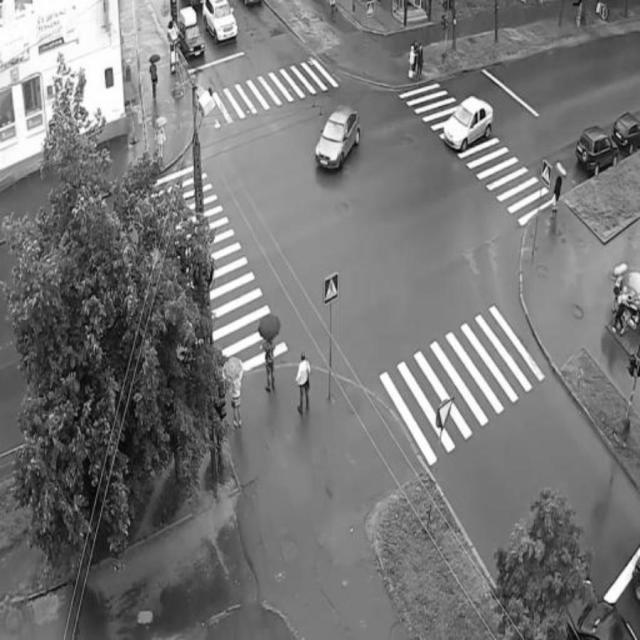person: (260, 315, 280, 401), (297, 341, 314, 421), (229, 360, 246, 432), (615, 283, 630, 351), (146, 46, 163, 101), (413, 35, 429, 90), (552, 151, 564, 224), (611, 267, 626, 317), (153, 115, 167, 166), (407, 35, 417, 77)
vehicle: (442, 98, 498, 146), (317, 109, 357, 173), (578, 124, 614, 179), (175, 6, 202, 61), (609, 114, 639, 160), (207, 6, 237, 41)
